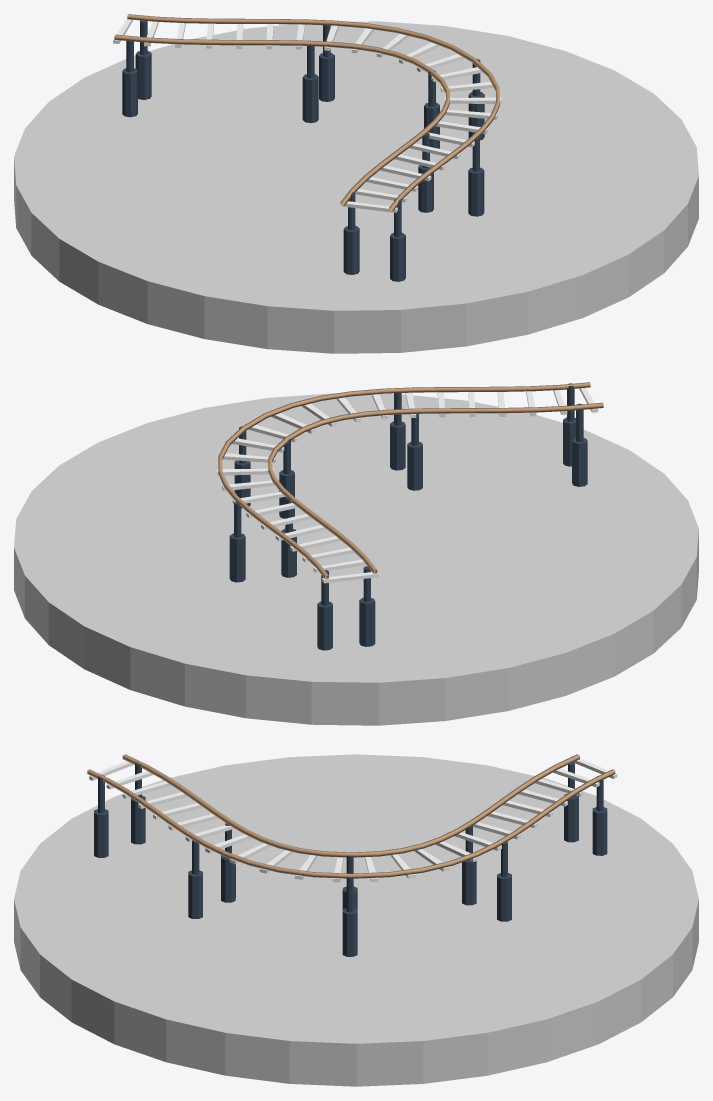
The model's file is RC_Playground_08.fbx.
3 renders of one model, top to bottom at view 1: azimuth 30°, elevation 25°; view 2: azimuth 150°, elevation 25°; view 3: azimuth 270°, elevation 25°, orthographic.
Parts seen in each view (by area): view 1: Cylinder.002, Columns.016, Path.020, RailStep.019; view 2: Cylinder.002, Columns.016, Path.020, RailStep.019; view 3: Cylinder.002, Columns.016, Path.020, RailStep.019.
Boxes of the visible parts, bbox=[...] form: Cylinder.002: bbox=[14, 21, 698, 353]; Columns.016: bbox=[122, 20, 484, 281]; Path.020: bbox=[114, 14, 499, 211]; RailStep.019: bbox=[113, 18, 501, 212]; Cylinder.002: bbox=[14, 393, 698, 725]; Columns.016: bbox=[229, 383, 587, 650]; Path.020: bbox=[218, 382, 603, 579]; RailStep.019: bbox=[217, 388, 598, 583]; Cylinder.002: bbox=[14, 754, 698, 1086]; Columns.016: bbox=[94, 762, 607, 956]; Path.020: bbox=[87, 754, 615, 878]; RailStep.019: bbox=[89, 758, 617, 882].
Bounding box in the file's own units: 2894 × 577 × 2894.
